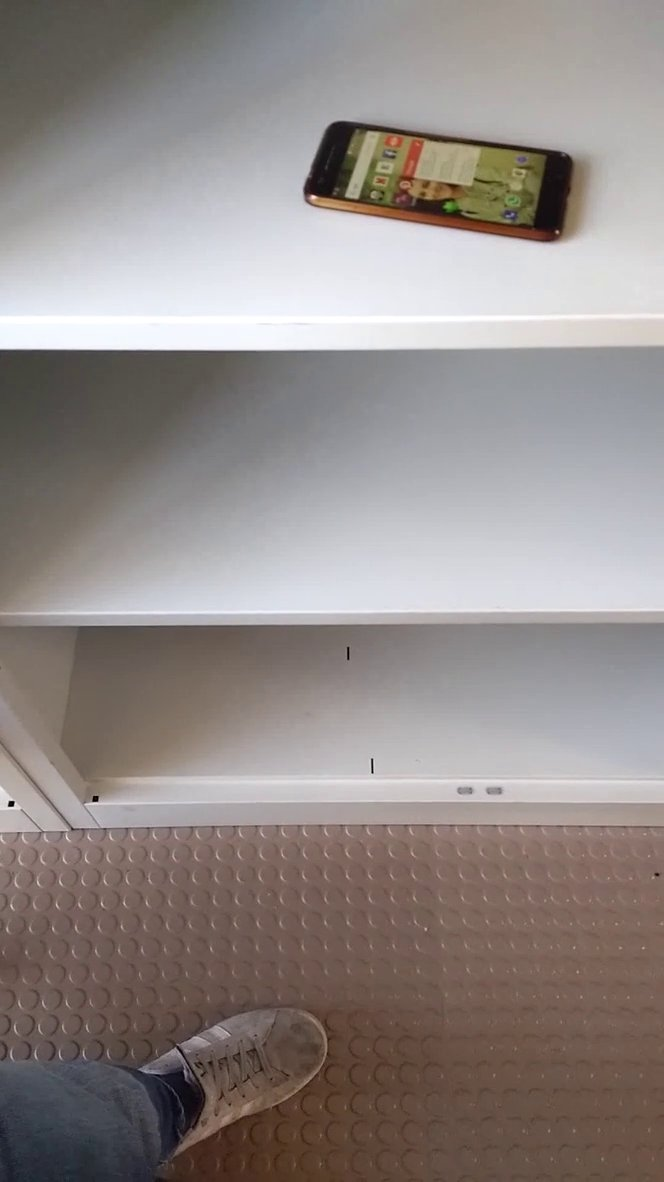phone: (288, 101, 592, 257)
